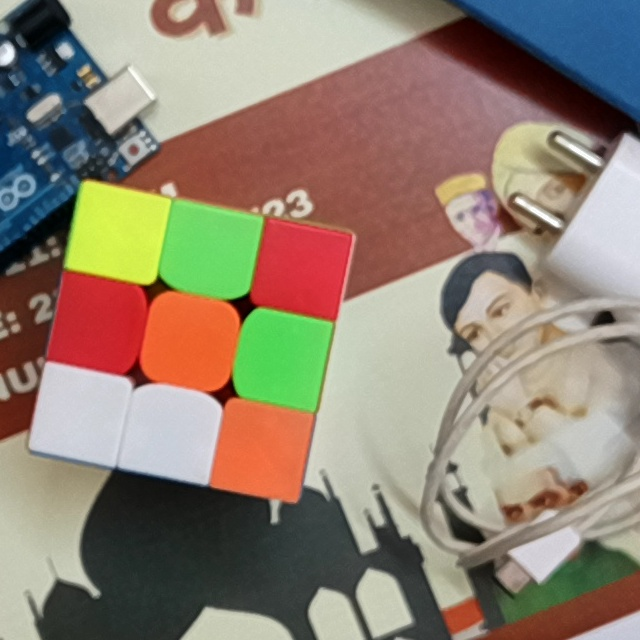tile: (61, 284, 132, 361), (173, 216, 245, 288), (269, 232, 339, 304), (248, 321, 318, 393), (45, 377, 118, 446), (155, 302, 222, 377), (135, 397, 205, 468), (228, 413, 297, 485), (80, 201, 152, 267)
